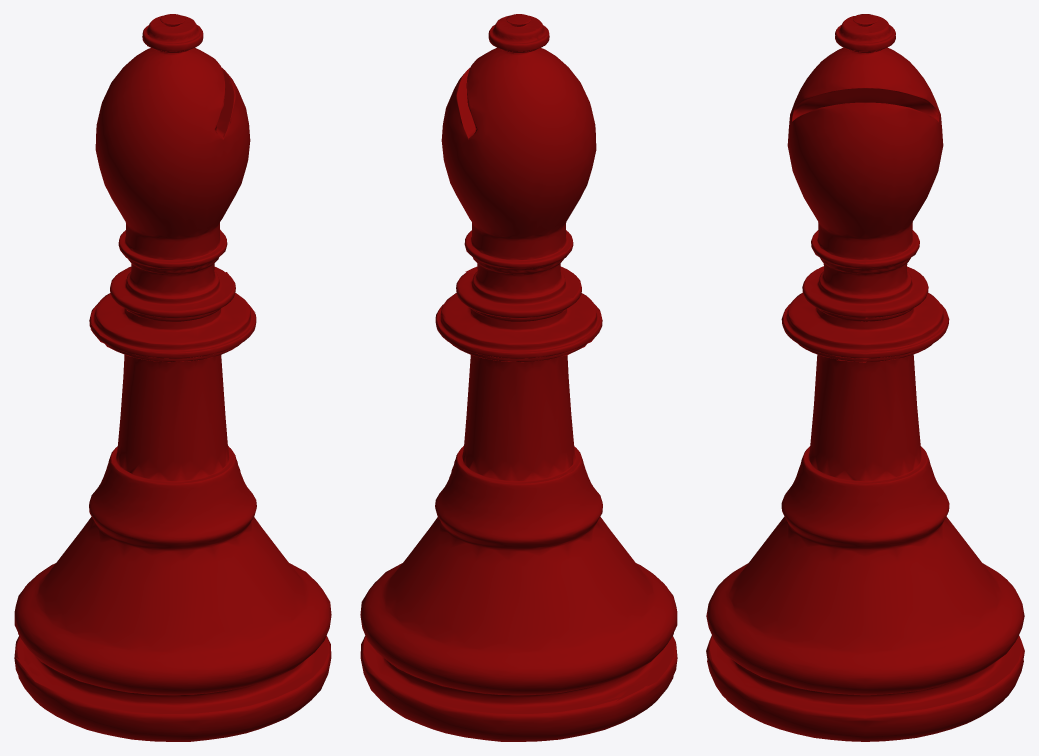
3 views of the same model, side by side, from view 1: azimuth 30°, elevation 25°; view 2: azimuth 150°, elevation 25°; view 3: azimuth 270°, elevation 25° (orthographic).
Parts seen in each view (by area): view 1: Bishop_03; view 2: Bishop_03; view 3: Bishop_03.
Boxes of the visible parts, x1,y1,x2,y2 form: Bishop_03: (14, 14, 331, 741); Bishop_03: (360, 14, 677, 741); Bishop_03: (706, 14, 1024, 741).
Size of the model in its own units: 0.2952 by 0.6796 by 0.2939.
